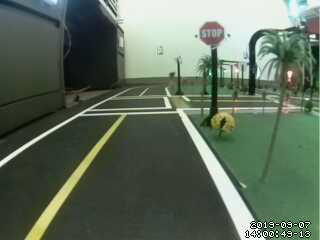Stop_Sign: (195, 21, 230, 51)
